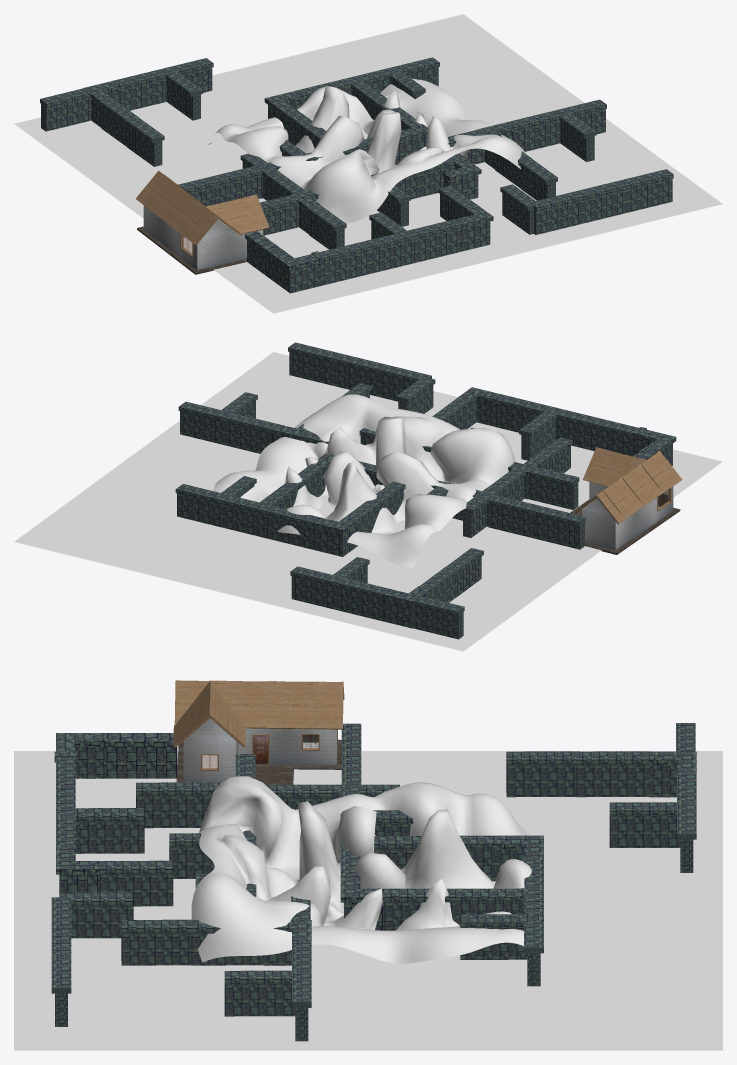
Rendered from level8.glb.
3 views of the same model, one above another, from view 1: azimuth 30°, elevation 25°; view 2: azimuth 150°, elevation 25°; view 3: azimuth 270°, elevation 25° (orthographic). The views are drawn at different scales.
Parts seen in each view (by area): view 1: Plane.002, Plane.001, Wall.024, Cube.041, Cube.005, Cube.050, Cube.051, Cube.049, Cube, Cube.002, Cube.038, Cube.004 (+36 smaller); view 2: Plane.002, Plane.001, Wall.024, Cube.052, Cube.018, Cube.041, Cube.038, Cube.039, Cube.019, Cube.028, Cube.051, Cube.046 (+30 smaller); view 3: Plane.002, Plane.001, Wall.024, Cube.036, Cube.003, Cube.042, Cube.035, Cube.014, Cube.047, Cube.040, Cube.008, Cube.013 (+37 smaller).
Boxes of the visible parts, x1=… form: Plane.002: x1=14, y1=14, x2=722, y2=313; Plane.001: x1=208, y1=78, x2=526, y2=223; Wall.024: x1=135, y1=170, x2=240, y2=245; Cube.041: x1=40, y1=87, x2=93, y2=131; Cube.005: x1=409, y1=219, x2=462, y2=262; Cube.050: x1=575, y1=180, x2=627, y2=224; Cube.051: x1=620, y1=169, x2=673, y2=212; Cube.049: x1=531, y1=191, x2=583, y2=234; Cube: x1=319, y1=241, x2=371, y2=284; Cube.002: x1=271, y1=250, x2=318, y2=293; Cube.038: x1=114, y1=69, x2=167, y2=110; Cube.004: x1=363, y1=230, x2=416, y2=273; Plane.002: x1=14, y1=352, x2=722, y2=651; Plane.001: x1=213, y1=394, x2=515, y2=568; Wall.024: x1=574, y1=451, x2=682, y2=524; Cube.052: x1=533, y1=506, x2=585, y2=549; Cube.018: x1=526, y1=466, x2=579, y2=509; Cube.041: x1=411, y1=596, x2=464, y2=639; Cube.038: x1=336, y1=577, x2=388, y2=621; Cube.039: x1=290, y1=566, x2=342, y2=609; Cube.019: x1=487, y1=494, x2=539, y2=538; Cube.028: x1=175, y1=484, x2=228, y2=527; Cube.051: x1=288, y1=342, x2=341, y2=385; Cube.046: x1=178, y1=401, x2=231, y2=445; Plane.002: x1=14, y1=751, x2=722, y2=1050; Plane.001: x1=191, y1=776, x2=544, y2=963; Wall.024: x1=174, y1=680, x2=344, y2=729; Cube.036: x1=576, y1=751, x2=649, y2=797; Cube.003: x1=104, y1=733, x2=177, y2=778; Cube.042: x1=121, y1=919, x2=194, y2=965; Cube.035: x1=506, y1=751, x2=579, y2=797; Cube.014: x1=71, y1=808, x2=144, y2=853; Cube.047: x1=224, y1=970, x2=298, y2=1016; Cube.040: x1=609, y1=802, x2=683, y2=847; Cube.008: x1=136, y1=782, x2=209, y2=828; Cube.013: x1=100, y1=860, x2=173, y2=906.
Bounding box in the file's own units: 317 × 50.61 × 304.
Materials: 9 (9 with a texture image).
